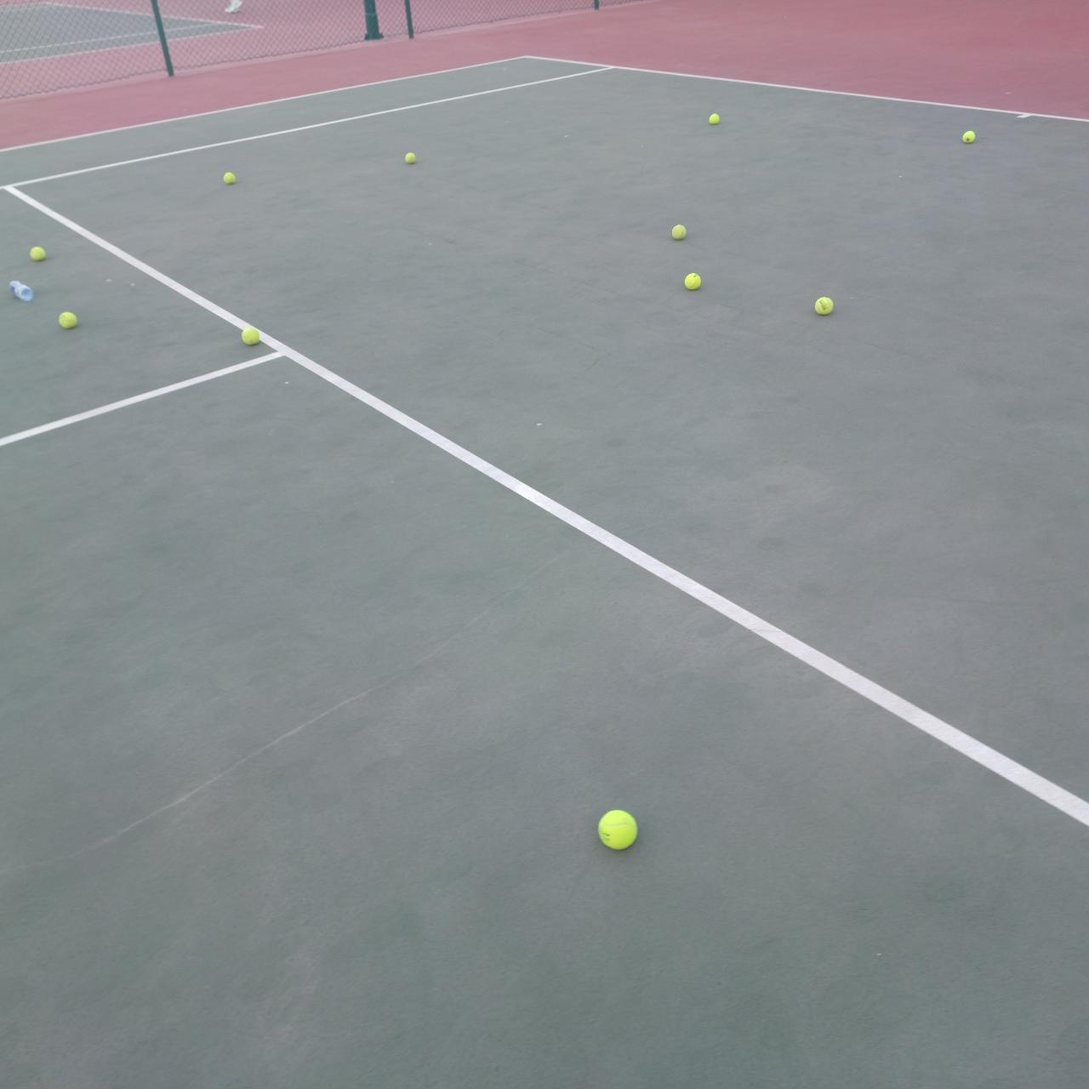tennis-ball: (596, 807, 638, 850), (812, 294, 834, 315), (239, 324, 259, 345), (57, 309, 78, 329), (682, 270, 702, 290), (28, 244, 46, 261), (670, 222, 686, 239), (221, 169, 236, 185), (961, 128, 975, 143), (706, 111, 720, 125), (402, 150, 417, 163)
